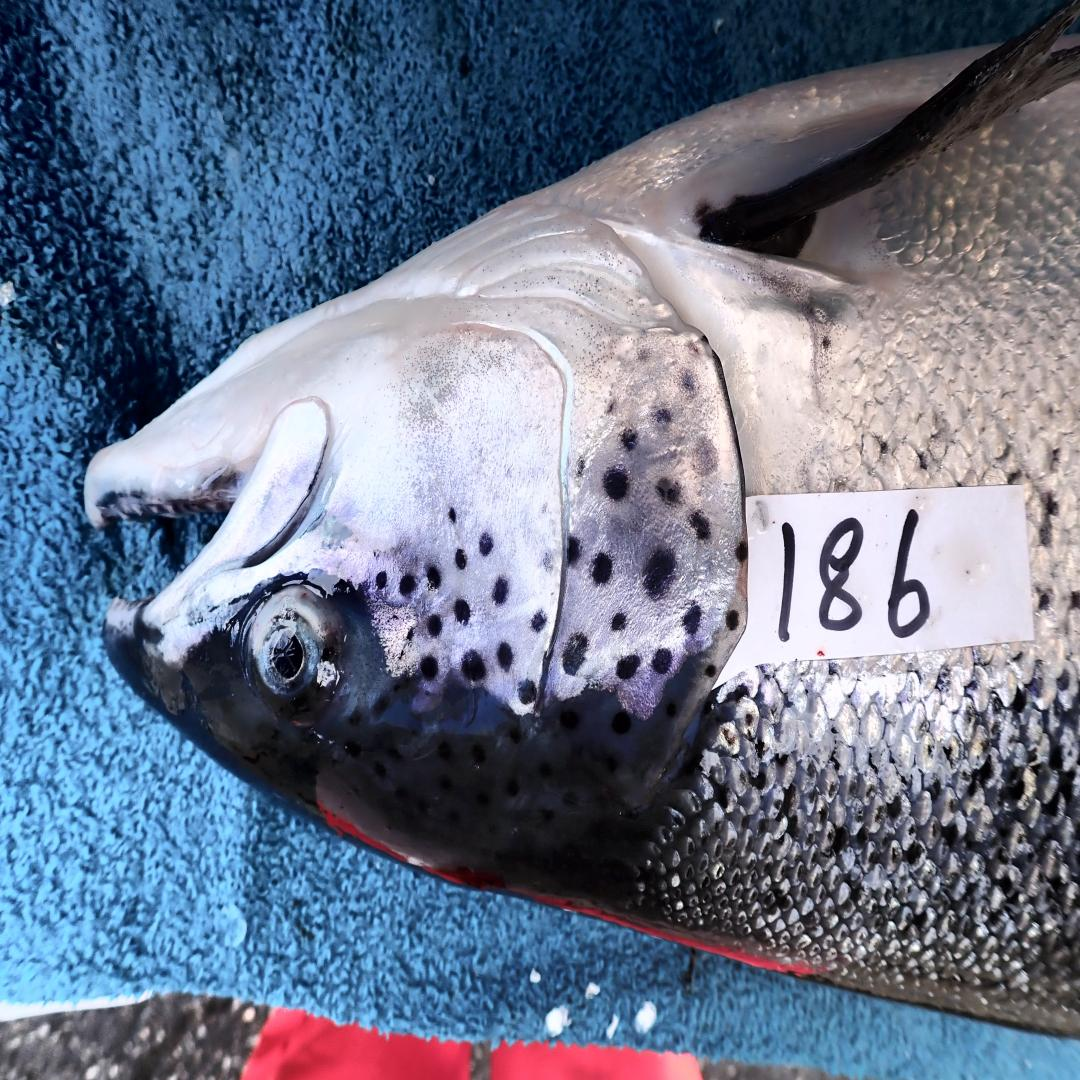spot: (643, 548, 677, 599), (561, 633, 589, 675), (692, 437, 717, 475), (603, 467, 629, 501), (591, 551, 612, 585), (462, 650, 485, 681), (681, 605, 702, 636), (689, 511, 711, 540), (656, 478, 681, 503), (616, 655, 639, 681), (652, 647, 673, 675), (399, 624, 414, 660), (517, 678, 536, 706), (420, 655, 439, 681), (491, 577, 508, 605), (426, 613, 443, 638), (498, 641, 513, 669), (454, 599, 470, 624), (621, 427, 639, 448), (479, 532, 494, 557), (399, 574, 416, 596), (567, 537, 580, 565), (653, 406, 673, 424), (426, 565, 441, 588), (734, 540, 749, 562), (532, 610, 546, 633), (635, 340, 648, 363), (612, 613, 626, 633), (375, 568, 387, 590), (726, 610, 738, 630), (684, 373, 696, 391), (456, 548, 466, 568), (543, 550, 552, 572), (704, 664, 716, 677), (605, 399, 616, 413), (540, 501, 551, 515), (577, 459, 585, 474), (449, 509, 456, 524)
